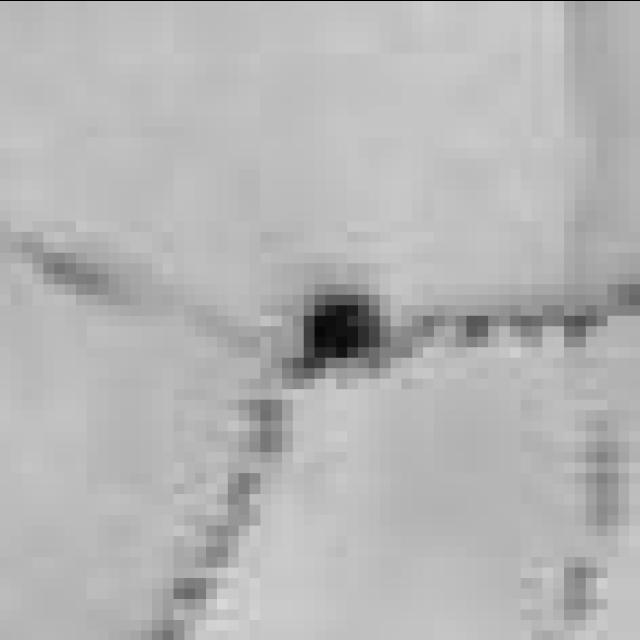good_void: (299, 295, 385, 370)
